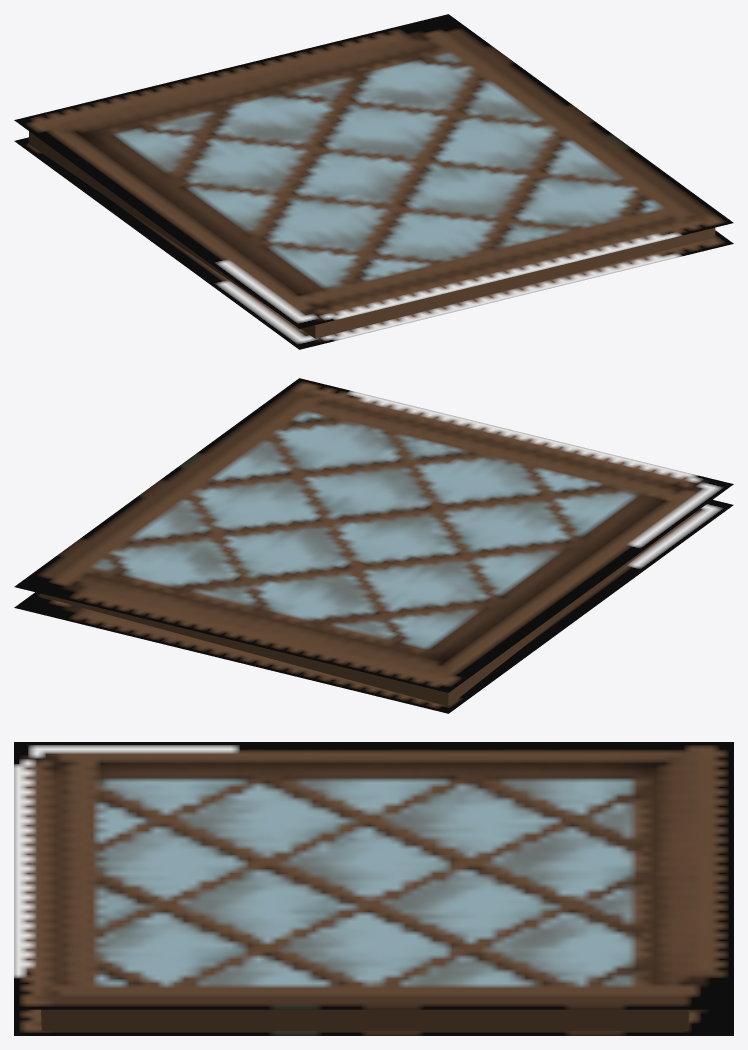
File: pz_native_fixtures_windows_church_25_frame.obj
The picture shows the model from 3 angles, top to bottom: view 1: azimuth 30°, elevation 25°; view 2: azimuth 150°, elevation 25°; view 3: azimuth 270°, elevation 25°; orthographic projection. The views are drawn at different scales.
Visible parts, largest first — view 1: pz_native_fixtures_windows_church_25_frame; view 2: pz_native_fixtures_windows_church_25_frame; view 3: pz_native_fixtures_windows_church_25_frame.
Part boxes in pixels (x1,y1,x2,y2): pz_native_fixtures_windows_church_25_frame: (14, 14, 733, 349); pz_native_fixtures_windows_church_25_frame: (14, 378, 733, 713); pz_native_fixtures_windows_church_25_frame: (14, 742, 733, 1035).
Bounding box in the file's own units: 0.875 × 0.04 × 0.9951.
1 material, 1 textured.
